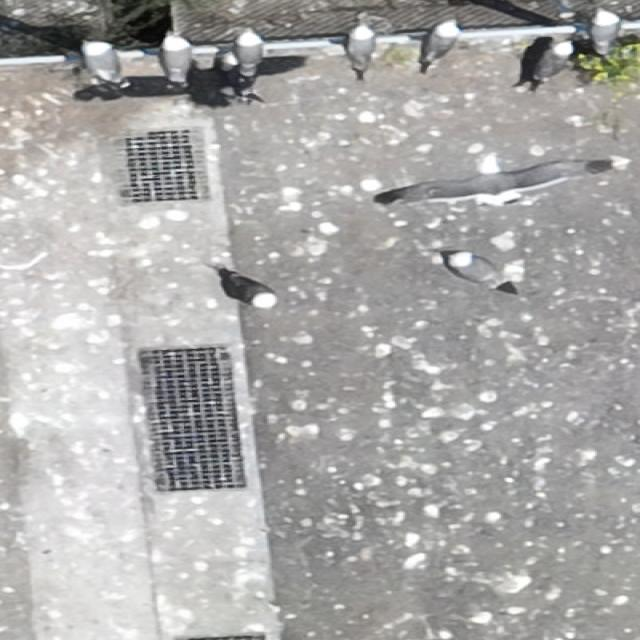F: (404, 150, 606, 205)
umineko: (449, 251, 519, 293), (528, 41, 574, 86), (81, 39, 124, 86), (220, 54, 260, 102), (161, 30, 193, 89), (238, 30, 264, 84), (224, 279, 272, 307), (427, 27, 454, 62), (352, 29, 374, 68)
